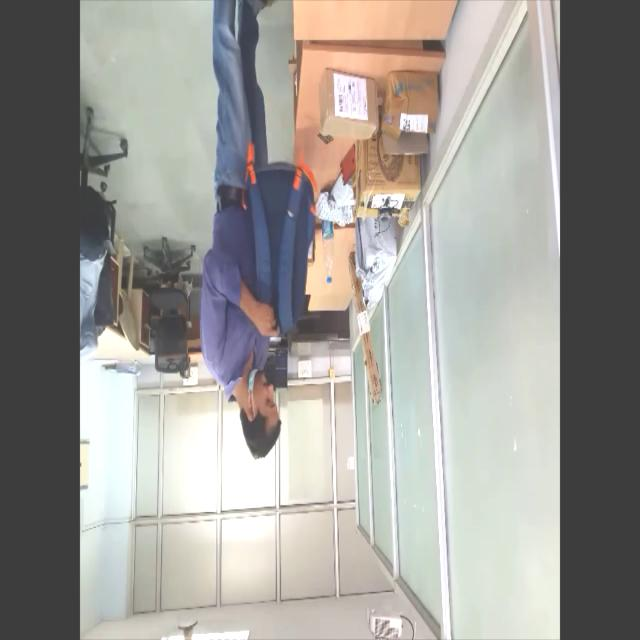shoplifting: (195, 0, 320, 464)
